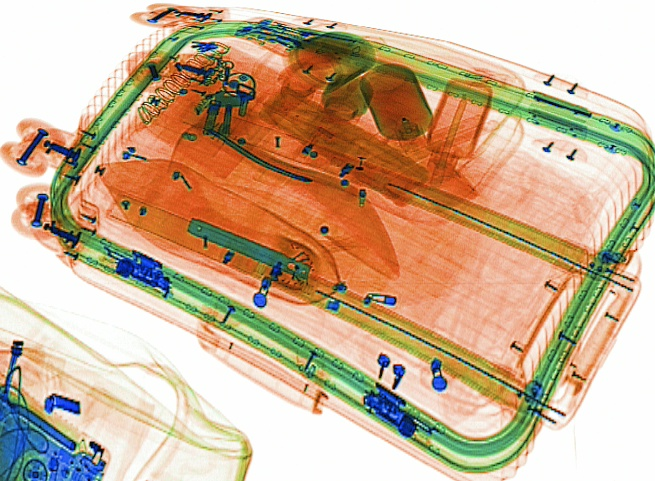powerbank: (357, 61, 432, 142), (318, 72, 373, 118)
